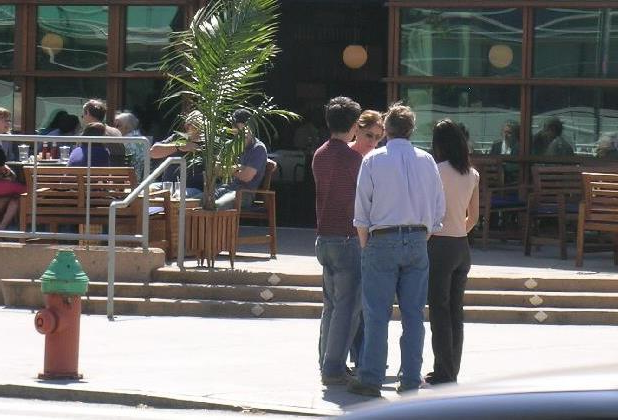pedestrian: (347, 105, 444, 398), (312, 97, 362, 386), (425, 121, 479, 384)
